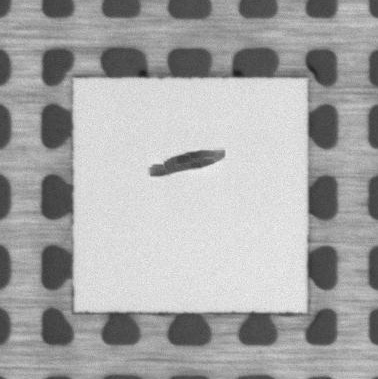DIE_INK: (147, 145, 229, 177)
